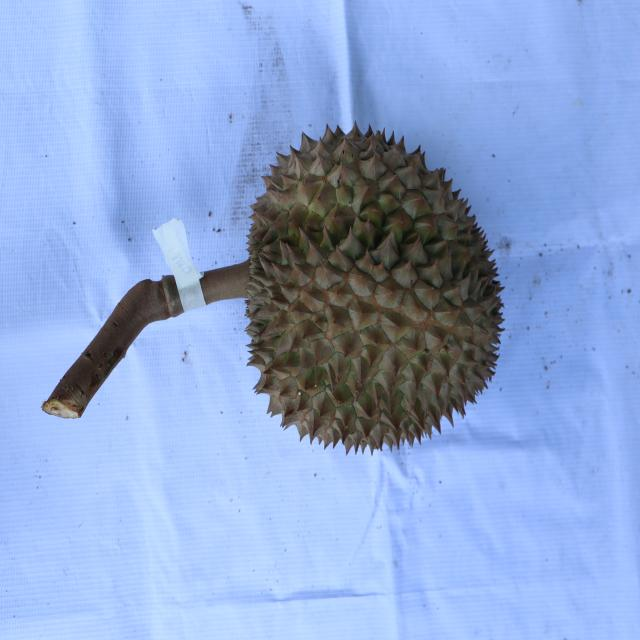mature: (240, 122, 506, 452)
